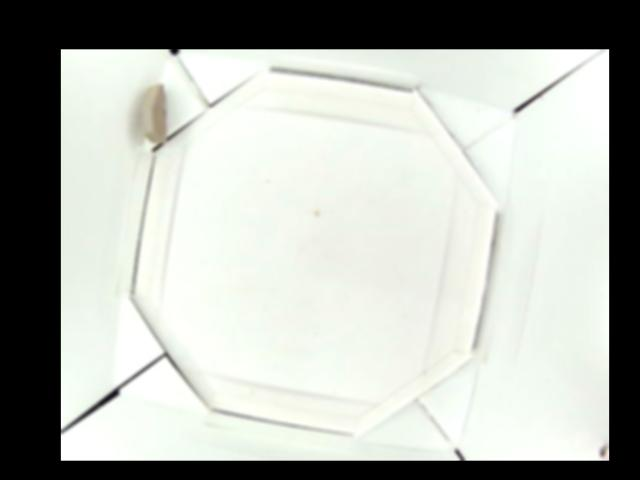China: (137, 83, 167, 145)
